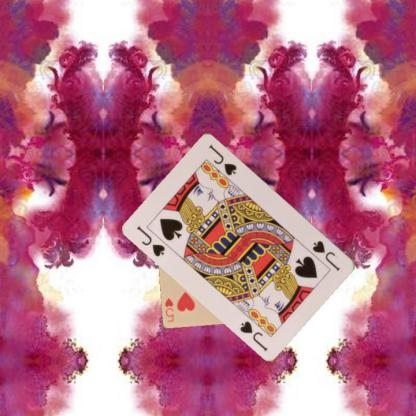Js: (134, 223, 167, 258), (310, 238, 342, 272)
